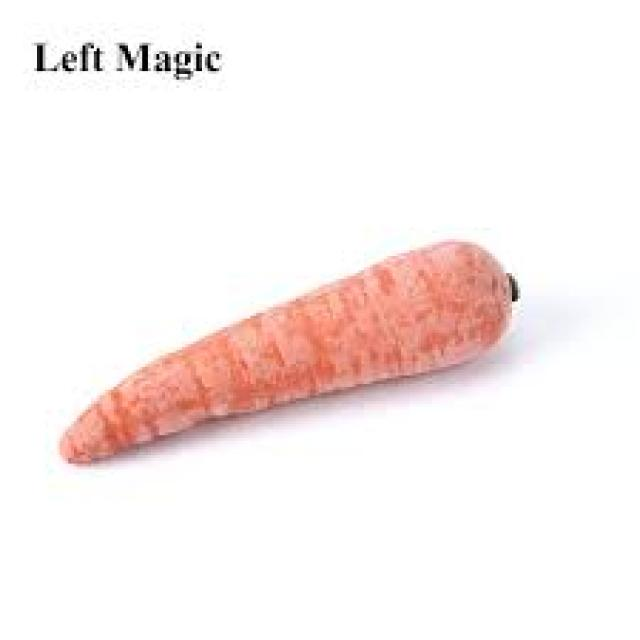Stale_Carrot: (76, 212, 532, 480)
